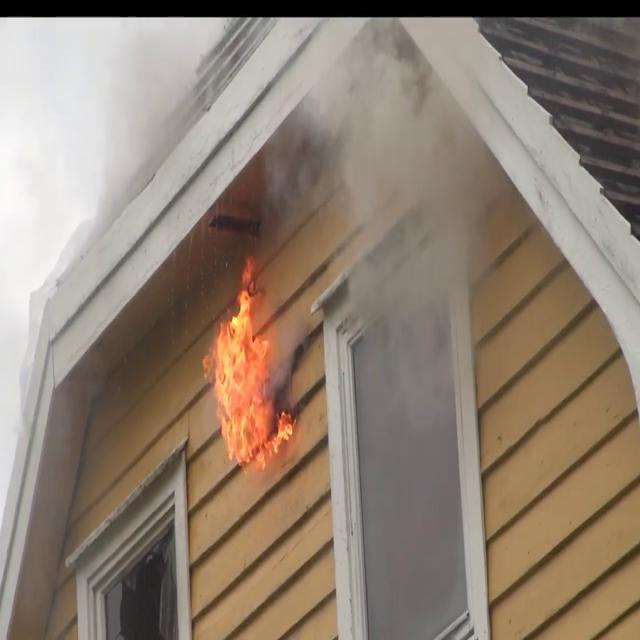Fire: (200, 260, 288, 472)
Smoke: (282, 18, 497, 462)
